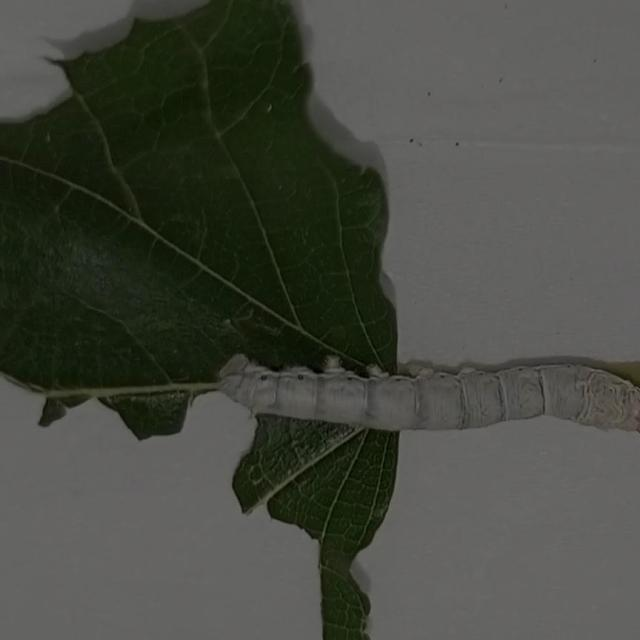Healthy: (202, 301, 640, 519)
